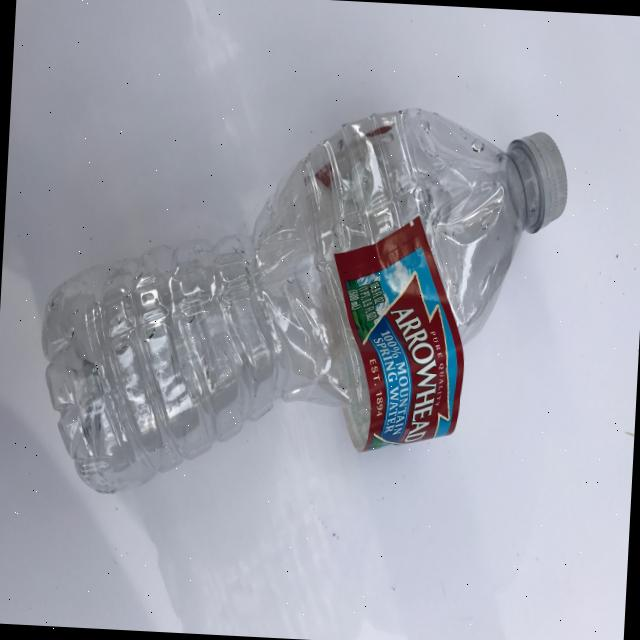plastic: (32, 88, 572, 518)
